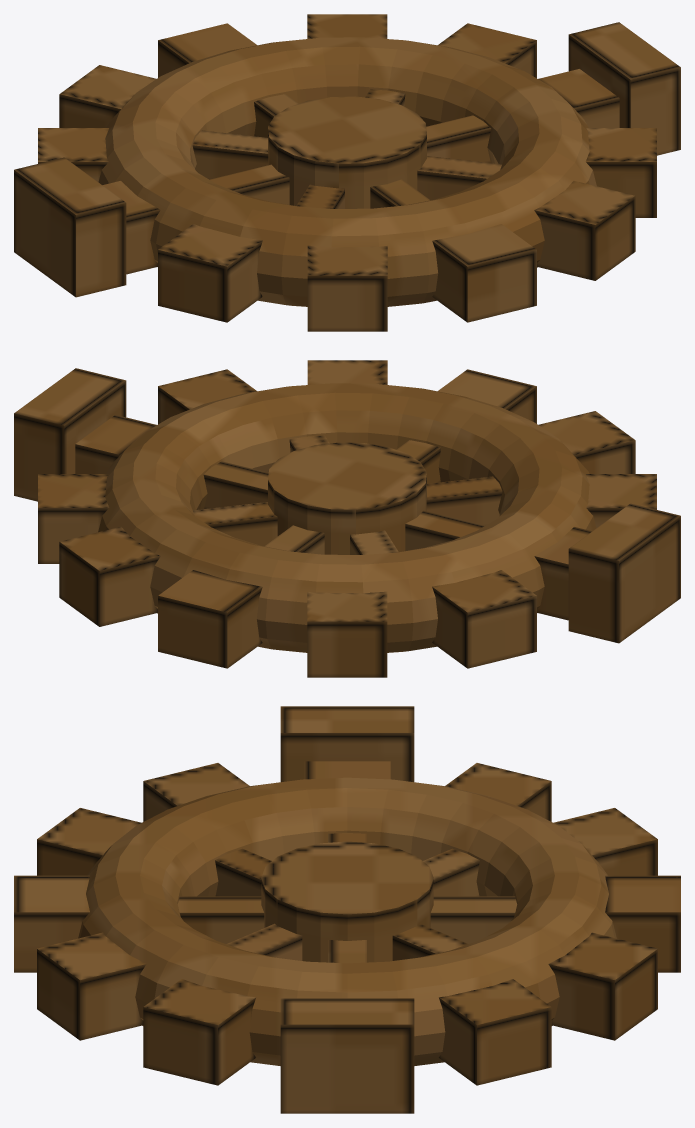
Rendered from mother_gear.obj.
3 views of the same model, one above another, from view 1: azimuth 30°, elevation 25°; view 2: azimuth 150°, elevation 25°; view 3: azimuth 270°, elevation 25° (orthographic). The views are drawn at different scales.
Size of the model in its own units: 1.92 by 0.3015 by 1.7.
1 material, 1 textured.
